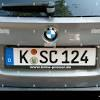1: (61, 50, 70, 65)
2: (71, 50, 80, 64)
4: (80, 50, 89, 64)
C: (49, 50, 58, 63)
K: (19, 50, 29, 64)
S: (40, 50, 48, 64)
